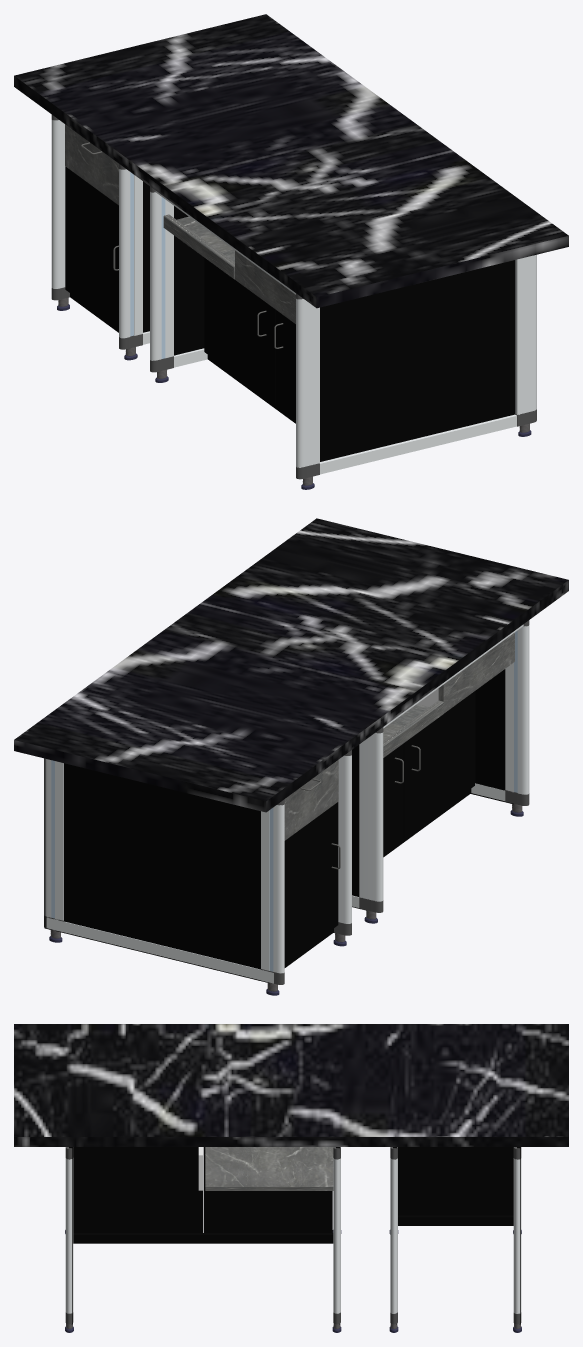
The model's file is MesaPeq.fbx.
3 views of the same model, one above another, from view 1: azimuth 30°, elevation 25°; view 2: azimuth 150°, elevation 25°; view 3: azimuth 270°, elevation 25° (orthographic). The views are drawn at different scales.
Parts seen in each view (by area): view 1: Cube.008, paredes de madera.002, estructura.004, madera.002, estrcutura.002, madera2.004, madera2.005, bases.002, unionesdegoma.002; view 2: Cube.008, madera.002, paredes de madera.002, estrcutura.002, estructura.004, madera2.004, madera2.005, bases.002, unionesdegoma.002; view 3: Cube.008, paredes de madera.002, madera.002, madera2.004, estructura.004, estrcutura.002, madera3.002, unionesdegoma.002.
Part boxes in pixels (<box>): Cube.008: <box>14,14,568,308</box>; paredes de madera.002: <box>174,206,515,461</box>; estructura.004: <box>150,191,536,474</box>; madera.002: <box>65,166,149,332</box>; estrcutura.002: <box>51,120,149,344</box>; madera2.004: <box>163,214,295,323</box>; madera2.005: <box>65,124,118,205</box>; bases.002: <box>150,356,536,485</box>; unionesdegoma.002: <box>51,114,142,356</box>; Cube.008: <box>14,518,568,812</box>; madera.002: <box>44,758,338,983</box>; paredes de madera.002: <box>352,669,513,910</box>; estrcutura.002: <box>44,755,351,983</box>; estructura.004: <box>352,624,529,907</box>; madera2.004: <box>383,632,514,757</box>; madera2.005: <box>284,760,338,840</box>; bases.002: <box>359,790,529,919</box>; unionesdegoma.002: <box>44,750,351,991</box>; Cube.008: <box>14,1024,568,1146</box>; paredes de madera.002: <box>69,1147,339,1324</box>; madera.002: <box>393,1147,520,1324</box>; madera2.004: <box>205,1147,333,1190</box>; estructura.004: <box>65,1147,340,1313</box>; estrcutura.002: <box>390,1158,521,1313</box>; madera3.002: <box>398,1215,513,1225</box>; unionesdegoma.002: <box>390,1147,521,1328</box>.
Size of the model in its own units: 105 by 86.75 by 219.
Materials: 29 (2 with a texture image).
